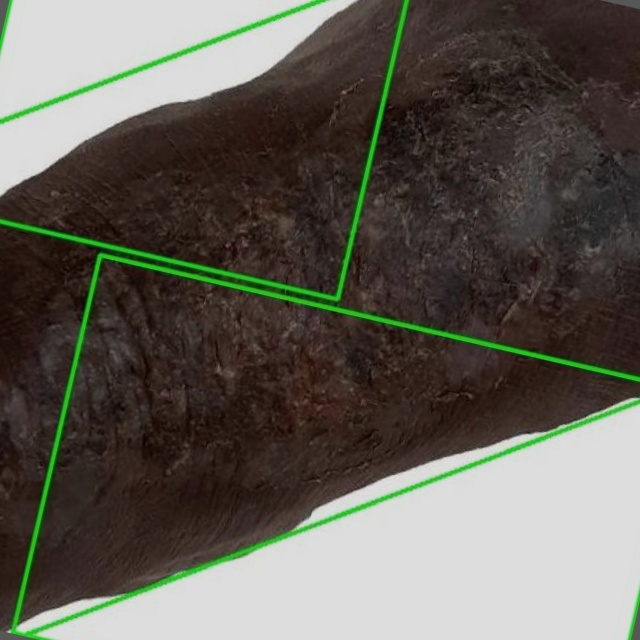Contact Dermatitis: (0, 0, 639, 578), (13, 254, 639, 639), (0, 0, 406, 299)
